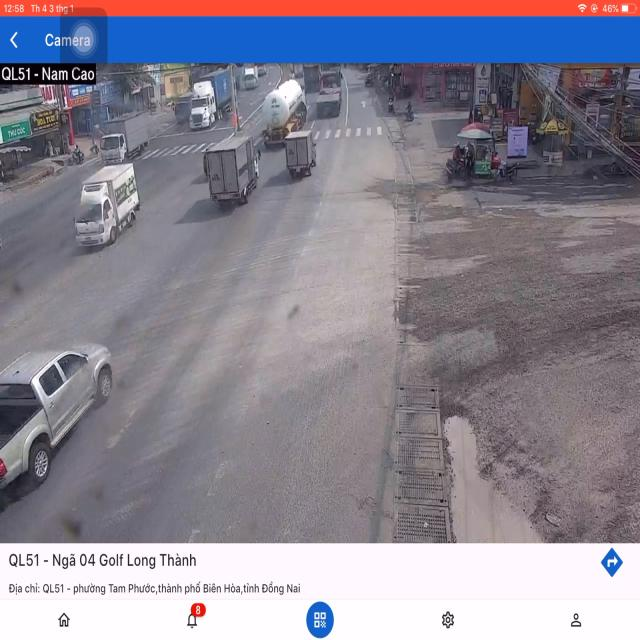car: (2, 349, 120, 530)
truck: (77, 167, 141, 253), (204, 134, 257, 212), (262, 79, 306, 147), (101, 113, 150, 165), (191, 70, 232, 132), (284, 129, 316, 175)
